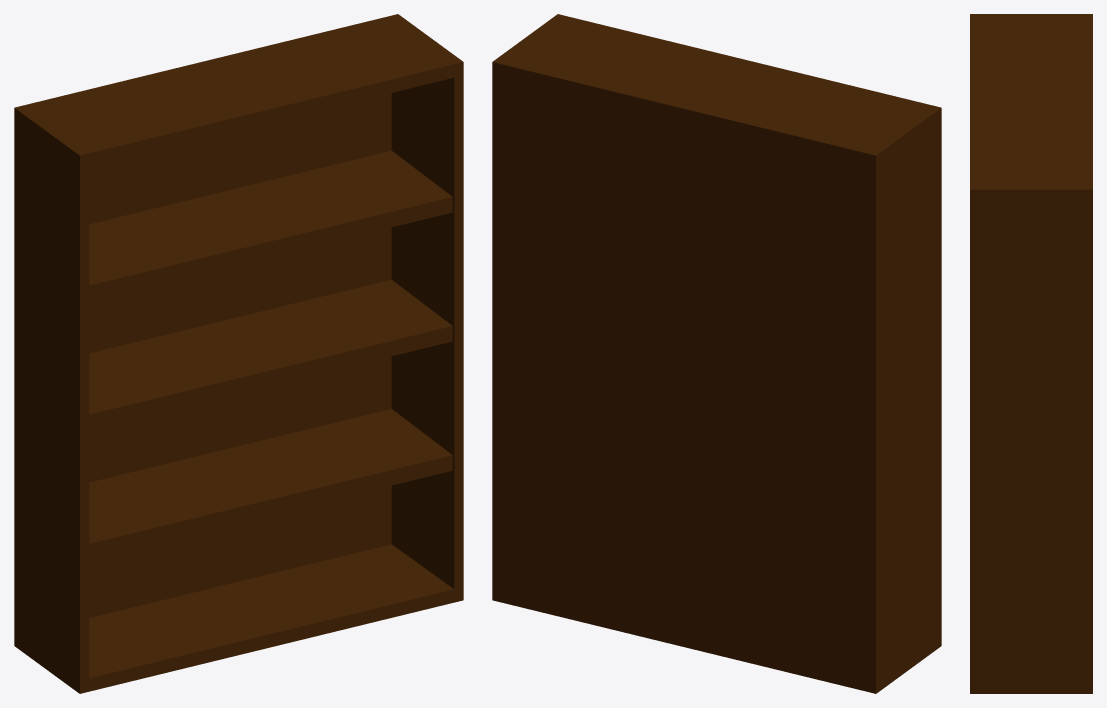
File: TallWideShelves.fbx
3 renders of one model, left to right at view 1: azimuth 30°, elevation 25°; view 2: azimuth 150°, elevation 25°; view 3: azimuth 270°, elevation 25°, orthographic. The views are drawn at different scales.
Parts seen in each view (by area): view 1: Cube; view 2: Cube; view 3: Cube.
Part boxes in pixels (x1=…): Cube: x1=14, y1=14, x2=463, y2=693; Cube: x1=492, y1=14, x2=941, y2=693; Cube: x1=970, y1=14, x2=1092, y2=693.
Bounding box in the file's own units: 989 × 1326 × 293.
